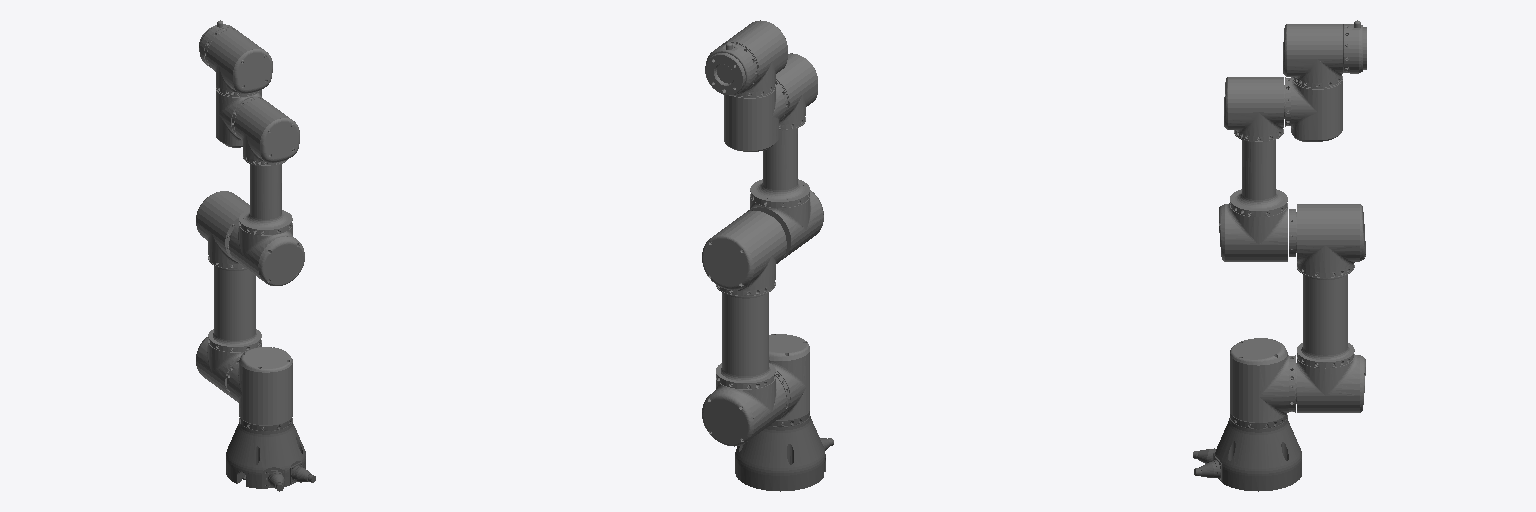
The robot description file, URDF, robot "eRobo3":
<robot name="eRobo3" version="1.0">
  <joint name="Joint_1" type="revolute">
    <safety_controller k_position="100.0" k_velocity="40.0" soft_lower_limit="-1.8973" soft_upper_limit="1.8973" />
    <origin rpy="0.00000 0.00000 0.00000" xyz="0.00000 0.00000 0.00000"/>
    <parent link="base_link"/>
    <child link="Link_1"/>
    <axis xyz="0.00000 0.00000 1.00000"/>
    <limit effort="87" lower="-1.9671" upper="1.9671" velocity="2.3925" />
  </joint>
  <joint name="Joint_2" type="revolute">
    <safety_controller k_position="100.0" k_velocity="40.0" soft_lower_limit="-0.7028" soft_upper_limit="0.7028" />
    <origin rpy="0.00000 0.00000 0.00000" xyz="0.00000 0.05300 0.14050"/>
    <parent link="Link_1"/>
    <child link="Link_2"/>
    <axis xyz="0.00000 -1.00000 0.00000"/>
    <limit effort="87" lower="-0.7126" upper="0.7126" velocity="2.3925" />
  </joint>
  <joint name="Joint_3" type="revolute">
    <safety_controller k_position="100.0" k_velocity="40.0" soft_lower_limit="-1.7628" soft_upper_limit="1.7628" />
    <origin rpy="0.00000 0.00000 0.00000" xyz="0.00000 0.00050 0.24350"/>
    <parent link="Link_2"/>
    <child link="Link_3"/>
    <axis xyz="0.00000 -1.00000 0.00000"/>
    <limit effort="87" lower="-1.8326" upper="1.8326" velocity="2.3925" />
  </joint>
  <joint name="Joint_4" type="revolute">
    <safety_controller k_position="100.0" k_velocity="40.0" soft_lower_limit="-1.7628" soft_upper_limit="1.7628" />
    <origin rpy="0.00000 0.00000 0.00000" xyz="0.00000 -0.01400 0.21100"/>
    <parent link="Link_3"/>
    <child link="Link_4"/>
    <axis xyz="0.00000 -1.00000 0.00000"/>
    <limit effort="87" lower="-1.8326" upper="1.8326" velocity="2.3925" />
  </joint>
  <joint name="Joint_5" type="revolute">
    <safety_controller k_position="100.0" k_velocity="40.0" soft_lower_limit="-1.8973" soft_upper_limit="1.8973" />
    <origin rpy="0.00000 0.00000 0.00000" xyz="0.00000 0.04700 0.03900"/>
    <parent link="Link_4"/>
    <child link="Link_5"/>
    <axis xyz="0.00000 0.00000 1.00000"/>
    <limit effort="12" lower="-1.9671" upper="1.9671" velocity="2.8710" />
  </joint>
  <joint name="Joint_6" type="revolute">
    <safety_controller k_position="100.0" k_velocity="40.0" soft_lower_limit="-0.0175" soft_upper_limit="3.7525" />
    <origin rpy="0.00000 0.00000 0.00000" xyz="0.00000 0.06080 0.04700"/>
    <parent link="Link_5"/>
    <child link="Link_6"/>
    <axis xyz="0.00000 -1.00000 0.00000"/>
    <limit effort="12" lower="-0.0873" upper="3.8223" velocity="2.8710" />
  </joint>
  
  
    <joint name="panda_hand_joint" type="fixed">
        <parent link="Link_6" />
        <child link="panda_hand" />
        <origin rpy="-1.5708 1.5708 0" xyz="0 0.01 0.0000" />
    </joint>
    <link name="panda_hand">
        <visual>
            <geometry>
                <mesh filename="package://erob_arm/meshes/hand.dae" />
            </geometry>
        </visual>
        <collision>
            <geometry>
                <mesh filename="package://erob_arm/meshes/hand.stl" />
            </geometry>
        </collision>
    </link>
    <link name="panda_leftfinger">
        <visual>
            <geometry>
                <mesh filename="package://erob_arm/meshes/finger.dae" />
            </geometry>
        </visual>
        <collision>
            <geometry>
                <mesh filename="package://erob_arm/meshes/finger.stl" />
            </geometry>
        </collision>
    </link>
    <link name="panda_rightfinger">
        <visual>
            <origin rpy="0 0 3.14159265359" xyz="0 0 0" />
            <geometry>
                <mesh filename="package://erob_arm/meshes/finger.dae" />
            </geometry>
        </visual>
        <collision>
            <origin rpy="0 0 3.14159265359" xyz="0 0 0" />
            <geometry>
                <mesh filename="package://erob_arm/meshes/finger.stl" />
            </geometry>
        </collision>
    </link>
    <joint name="panda_finger_joint1" type="prismatic">
        <parent link="panda_hand" />
        <child link="panda_leftfinger" />
        <origin rpy="0 0 0" xyz="0 0 0.0584" />
        <axis xyz="0 1 0" />
        <limit effort="20" lower="0.0" upper="0.04" velocity="0.2" />
    </joint>
    <joint name="panda_finger_joint2" type="prismatic">
        <parent link="panda_hand" />
        <child link="panda_rightfinger" />
        <origin rpy="0 0 0" xyz="0 0 0.0584" />
        <axis xyz="0 -1 0" />
        <limit effort="20" lower="0.0" upper="0.04" velocity="0.2" />
        <mimic joint="panda_finger_joint1" />
    </joint>
    
  
  <link name="Link_1">
    <collision name="Link_1_collision">
      <origin rpy="0.00000 0.00000 0.00000" xyz="0.00000 0.00000 0.00000"/>
      <geometry>
        <mesh filename="package://erob_arm/meshes/Link_1.stl" scale="1.00000 1.00000 1.00000"/>
      </geometry>
    </collision>
    <inertial>
      <inertia ixx="0.00054" ixy="0.00000" ixz="0.00000" iyy="0.00052" iyz="0.00000" izz="0.00054"/>
      <origin rpy="0.00000 0.00000 0.00000" xyz="0.00000 0.00308 0.13617"/>
      <mass value="0.50622"/>
    </inertial>
    <visual name="Link_1_visual">
      <origin rpy="0.00000 0.00000 0.00000" xyz="0.00000 0.00000 0.00000"/>
      <material name="#ffffffff"/>
      <geometry>
        <mesh filename="package://erob_arm/meshes/Link_1.stl" scale="1.00000 1.00000 1.00000"/>
      </geometry>
    </visual>
  </link>
  <link name="Link_2">
    <collision name="Link_2_collision">
      <origin rpy="0.00000 0.00000 0.00000" xyz="0.00000 0.00000 0.00000"/>
      <geometry>
        <mesh filename="package://erob_arm/meshes/Link_2.stl" scale="1.00000 1.00000 1.00000"/>
      </geometry>
    </collision>
    <inertial>
      <inertia ixx="0.00157" ixy="0.00000" ixz="0.00000" iyy="0.00156" iyz="0.00000" izz="0.00119"/>
      <origin rpy="0.00000 0.00000 0.00000" xyz="0.00000 0.04217 0.11937"/>
      <mass value="1.16203"/>
    </inertial>
    <visual name="Link_2_visual">
      <origin rpy="0.00000 0.00000 0.00000" xyz="0.00000 0.00000 0.00000"/>
      <material name="#ffffffff"/>
      <geometry>
        <mesh filename="package://erob_arm/meshes/Link_2.stl" scale="1.00000 1.00000 1.00000"/>
      </geometry>
    </visual>
  </link>
  <link name="Link_3">
    <collision name="Link_3_collision">
      <origin rpy="0.00000 0.00000 0.00000" xyz="0.00000 0.00000 0.00000"/>
      <geometry>
        <mesh filename="package://erob_arm/meshes/Link_3.stl" scale="1.00000 1.00000 1.00000"/>
      </geometry>
    </collision>
    <inertial>
      <inertia ixx="0.00081" ixy="0.00000" ixz="0.00000" iyy="0.00091" iyz="-0.00001" izz="0.00062"/>
      <origin rpy="0.00000 0.00000 0.00000" xyz="0.00000 -0.05451 0.09532"/>
      <mass value="0.77552"/>
    </inertial>
    <visual name="Link_3_visual">
      <origin rpy="0.00000 0.00000 0.00000" xyz="0.00000 0.00000 0.00000"/>
      <material name="#ffffffff"/>
      <geometry>
        <mesh filename="package://erob_arm/meshes/Link_3.stl" scale="1.00000 1.00000 1.00000"/>
      </geometry>
    </visual>
  </link>
  <link name="Link_4">
    <collision name="Link_4_collision">
      <origin rpy="0.00000 0.00000 0.00000" xyz="0.00000 0.00000 0.00000"/>
      <geometry>
        <mesh filename="package://erob_arm/meshes/Link_4.stl" scale="1.00000 1.00000 1.00000"/>
      </geometry>
    </collision>
    <inertial>
      <inertia ixx="0.00025" ixy="0.00000" ixz="0.00000" iyy="0.00024" iyz="0.00000" izz="0.00026"/>
      <origin rpy="0.00000 0.00000 0.00000" xyz="0.00001 0.04110 0.00150"/>
      <mass value="0.31668"/>
    </inertial>
    <visual name="Link_4_visual">
      <origin rpy="0.00000 0.00000 0.00000" xyz="0.00000 0.00000 0.00000"/>
      <material name="#ffffffff"/>
      <geometry>
        <mesh filename="package://erob_arm/meshes/Link_4.stl" scale="1.00000 1.00000 1.00000"/>
      </geometry>
    </visual>
  </link>
  <link name="Link_5">
    <collision name="Link_5_collision">
      <origin rpy="0.00000 0.00000 0.00000" xyz="0.00000 0.00000 0.00000"/>
      <geometry>
        <mesh filename="package://erob_arm/meshes/Link_5.stl" scale="1.00000 1.00000 1.00000"/>
      </geometry>
    </collision>
    <inertial>
      <inertia ixx="0.00025" ixy="0.00000" ixz="0.00000" iyy="0.00026" iyz="0.00000" izz="0.00024"/>
      <origin rpy="0.00000 0.00000 0.00000" xyz="-0.00001 0.00150 0.04110"/>
      <mass value="0.31668"/>
    </inertial>
    <visual name="Link_5_visual">
      <origin rpy="0.00000 0.00000 0.00000" xyz="0.00000 0.00000 0.00000"/>
      <material name="#ffffffff"/>
      <geometry>
        <mesh filename="package://erob_arm/meshes/Link_5.stl" scale="1.00000 1.00000 1.00000"/>
      </geometry>
    </visual>
  </link>
  <link name="Link_6">
    <collision name="Link_6_collision">
      <origin rpy="0.00000 0.00000 0.00000" xyz="0.00000 0.00000 0.00000"/>
      <geometry>
        <mesh filename="package://erob_arm/meshes/Link_6.stl" scale="1.00000 1.00000 1.00000"/>
      </geometry>
    </collision>
    <inertial>
      <inertia ixx="0.00004" ixy="0.00000" ixz="0.00000" iyy="0.00007" iyz="0.00000" izz="0.00004"/>
      <origin rpy="0.00000 0.00000 0.00000" xyz="0.00000 -0.00578 0.00013"/>
      <mass value="0.10121"/>
    </inertial>
    <visual name="Link_6_visual">
      <origin rpy="0.00000 0.00000 0.00000" xyz="0.00000 0.00000 0.00000"/>
      <material name="#ffffffff"/>
      <geometry>
        <mesh filename="package://erob_arm/meshes/Link_6.stl" scale="1.00000 1.00000 1.00000"/>
      </geometry>
    </visual>
  </link>
  <link name="base_link">
    <collision name="base_link_collision">
      <origin rpy="0.00000 0.00000 0.00000" xyz="0.00000 0.00000 0.00000"/>
      <geometry>
        <mesh filename="package://erob_arm/meshes/base_link.stl" scale="1.00000 1.00000 1.00000"/>
      </geometry>
    </collision>
    <inertial>
      <inertia ixx="0.00083" ixy="0.00001" ixz="0.00001" iyy="0.00085" iyz="0.00003" izz="0.00110"/>
      <origin rpy="0.00000 0.00000 0.00000" xyz="0.00095 -0.00172 0.03600"/>
      <mass value="0.47602"/>
    </inertial>
    <visual name="base_link_visual">
      <origin rpy="0.00000 0.00000 0.00000" xyz="0.00000 0.00000 0.00000"/>
      <material name="base"/>
      <geometry>
        <mesh filename="package://erob_arm/meshes/base_link.stl" scale="1.00000 1.00000 1.00000"/>
      </geometry>
    </visual>
  </link>
  

  <material name="#ffffffff">
    <color rgba="0.50000 0.50000 0.50000 1.0000"/>
  </material>
    <material name="base">
    <color rgba="0.40000 0.40000 0.40000 1.0000"/>
  </material>
</robot>

--- Render facts (derived) ---
The picture shows the robot from 3 angles, left to right: view 1: azimuth 30°, elevation 25°; view 2: azimuth 150°, elevation 25°; view 3: azimuth 270°, elevation 25°; orthographic projection.
Robot: eRobo3 — 10 links, 9 joints (6 revolute, 2 prismatic, 1 fixed); root link base_link; default pose: all joints at 0.
Links seen in each view (by area): view 1: Link_3, Link_2, base_link, Link_1, Link_5, Link_4; view 2: Link_2, Link_3, base_link, Link_4, Link_1, Link_5, Link_6; view 3: Link_2, Link_3, base_link, Link_1, Link_5, Link_4, Link_6.
Boxes of the visible links, x1=… form: Link_3: x1=229, y1=99, x2=304, y2=285; Link_2: x1=196, y1=191, x2=261, y2=397; base_link: x1=226, y1=416, x2=315, y2=491; Link_1: x1=226, y1=347, x2=292, y2=427; Link_5: x1=207, y1=30, x2=272, y2=96; Link_4: x1=216, y1=90, x2=265, y2=147; Link_2: x1=702, y1=211, x2=786, y2=446; Link_3: x1=747, y1=53, x2=823, y2=259; base_link: x1=735, y1=411, x2=833, y2=491; Link_4: x1=724, y1=80, x2=788, y2=151; Link_1: x1=769, y1=334, x2=809, y2=422; Link_5: x1=723, y1=20, x2=787, y2=97; Link_6: x1=705, y1=42, x2=758, y2=95; Link_2: x1=1291, y1=204, x2=1365, y2=412; Link_3: x1=1219, y1=77, x2=1295, y2=261; base_link: x1=1193, y1=414, x2=1301, y2=491; Link_1: x1=1230, y1=338, x2=1295, y2=424; Link_5: x1=1283, y1=24, x2=1342, y2=88; Link_4: x1=1285, y1=77, x2=1342, y2=141; Link_6: x1=1343, y1=20, x2=1366, y2=73.
Bounding box of the posed robot: 0.128 × 0.2554 × 0.728 m (x, y, z).
7 mesh visuals loaded from 9 distinct referenced files (7 binary STL); not drawn: 3 (reference not matched to a file when rendering).
